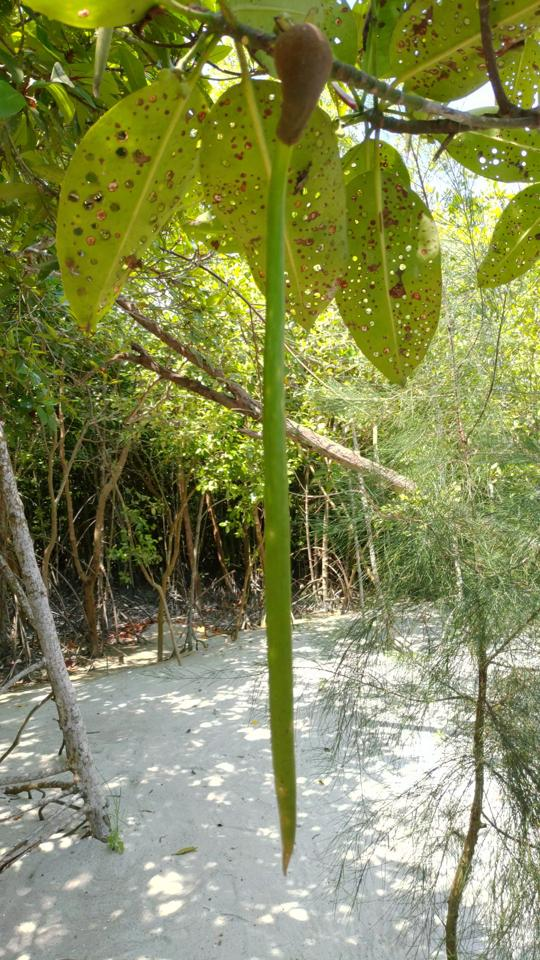mentah: (235, 19, 343, 875)
